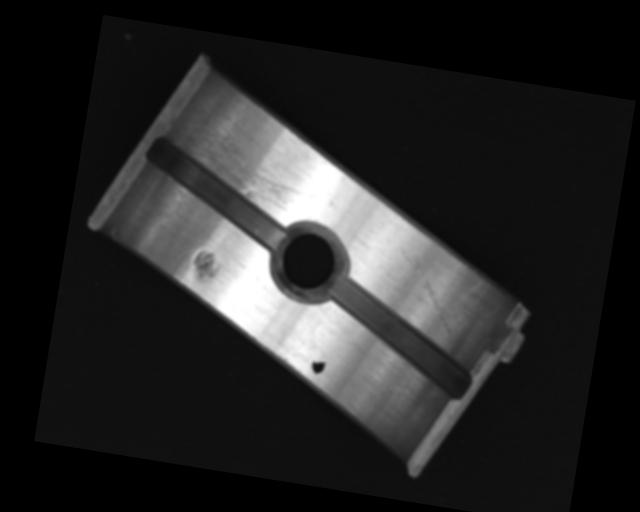blot: (309, 357, 326, 376)
bruise: (191, 248, 222, 282)
gap: (317, 275, 485, 401), (134, 134, 298, 249)
hole: (267, 216, 352, 307)
nick: (387, 247, 468, 340)
scratch: (166, 94, 331, 217)
